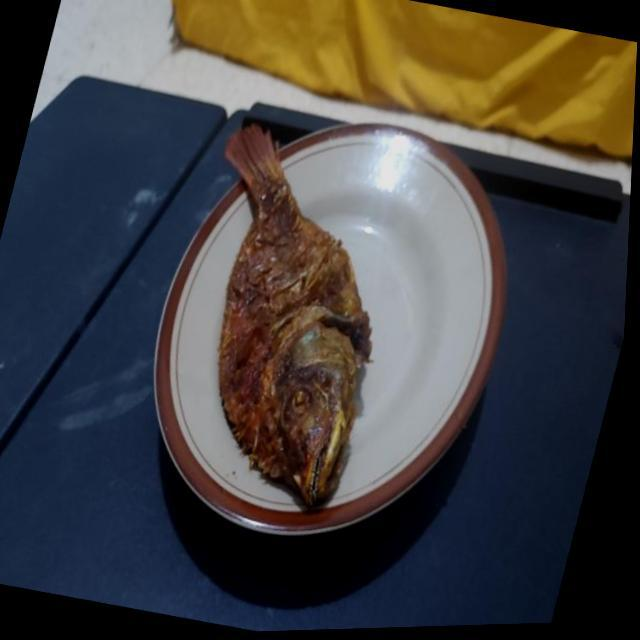ikan_mujair: (218, 124, 371, 506)
